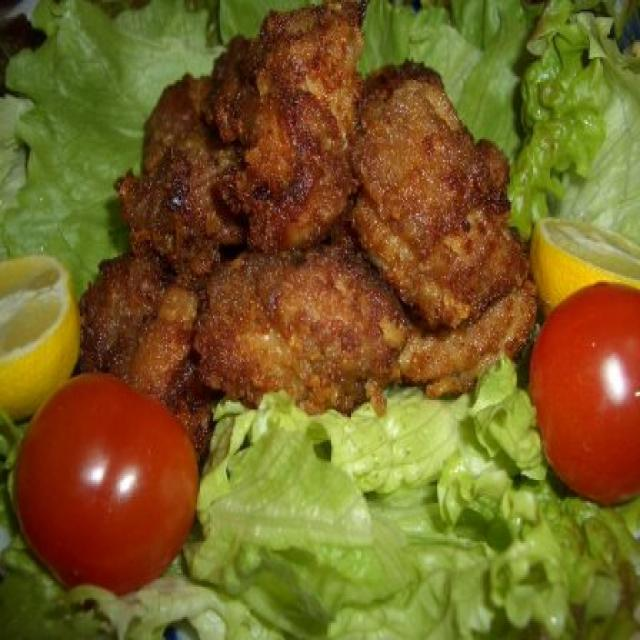鸡肉料理 含炸鸡: (34, 0, 566, 484)
